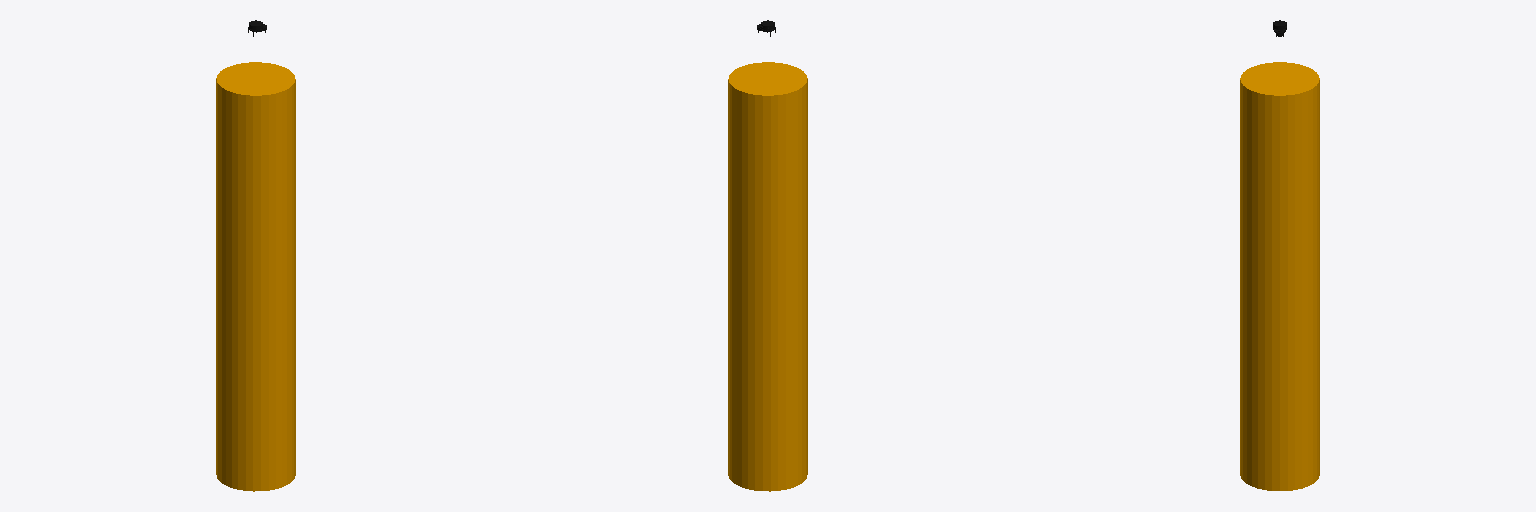
robot.urdf — turtlebot4_lite:
<?xml version="1.0" ?>
<!-- =================================================================================== -->
<!-- |    This document was autogenerated by xacro from turtlebot4_lite.urdf.xacro     | -->
<!-- |    EDITING THIS FILE BY HAND IS NOT RECOMMENDED                                 | -->
<!-- =================================================================================== -->
<robot name="turtlebot4_lite">
  <!-- <xacro:rplidar name="rplidar_link"/> -->
  <link name="base_link">
    <visual>
      <origin rpy="0 0 0" xyz="0 0 1.1"/>
      <geometry>
        <cylinder length="2.2" radius="0.2"/>
      </geometry>
    </visual>
    <collision>
      <origin rpy="0 0 0" xyz="0 0 1.1"/>
      <geometry>
        <cylinder length="2.2" radius="0.2"/>
      </geometry>
    </collision>
    <inertial>
      <mass value="10"/>
      <inertia ixx="1.0" ixy="0.0" ixz="0.0" iyy="1.0" iyz="0.0" izz="1.0"/>
    </inertial>
  </link>
  <link name="rplidar_link">
    <inertial>
      <mass value="0.17"/>
      <inertia ixx="0.0001926" ixy="0.0" ixz="0.0" iyy="0.000122" iyz="0.0" izz="0.0002129"/>
    </inertial>
    <visual>
      <geometry>
        <mesh filename="package://robot_models_description/meshes/rplidar.dae"/>
      </geometry>
    </visual>
    <collision>
      <geometry>
        <box size="0.071 0.1 0.06"/>
      </geometry>
    </collision>
  </link>
  <gazebo reference="rplidar_link">
    <sensor name="rplidar_sensor" type="ray">
      <update_rate>62</update_rate>
      <visualize>false</visualize>
      <ray>
        <scan>
          <horizontal>
            <samples>640</samples>
            <resolution>1</resolution>
            <min_angle>-3.1415926535897931</min_angle>
            <max_angle>3.1415926535897931</max_angle>
          </horizontal>
        </scan>
        <range>
          <min>0.164</min>
          <max>12</max>
          <resolution>0.01</resolution>
        </range>
      </ray>
      <plugin filename="libgazebo_ros_laser.so" name="gazebo_ros_head_hokuyo_controller">
        <topicName>/turtlebot4_lite/lase_scan</topicName>
        <frameName>rplidar_link</frameName>
        <min_range>0.164</min_range>
        <max_range>12</max_range>
        <gaussianNoise>0.008</gaussianNoise>
      </plugin>
    </sensor>
  </gazebo>
  <joint name="base_2_rplidar" type="fixed">
    <origin rpy="0.0 0.0 0.0" xyz="0.0 0.0 2.5"/>
    <parent link="base_link"/>
    <child link="rplidar_link"/>
  </joint>
   --&gt;


</robot>

--- Facts derived from the render (not from the file) ---
3 views of the same robot in one strip: view 1: azimuth 30°, elevation 25°; view 2: azimuth 150°, elevation 25°; view 3: azimuth 270°, elevation 25° (orthographic).
Model turtlebot4_lite with 2 links and 1 joints (1 fixed), rooted at base_link, posed all joints at 0.
Visible links, largest first — view 1: base_link; view 2: base_link; view 3: base_link.
Boxes of the visible links, bbox=[...] form: base_link: bbox=[216, 62, 295, 491]; base_link: bbox=[728, 62, 807, 491]; base_link: bbox=[1240, 62, 1319, 490].
Size in the robot's own frame: 0.4 by 0.4 by 2.51 metres.
1 mesh visuals loaded from 1 distinct referenced files (1 Collada DAE).
